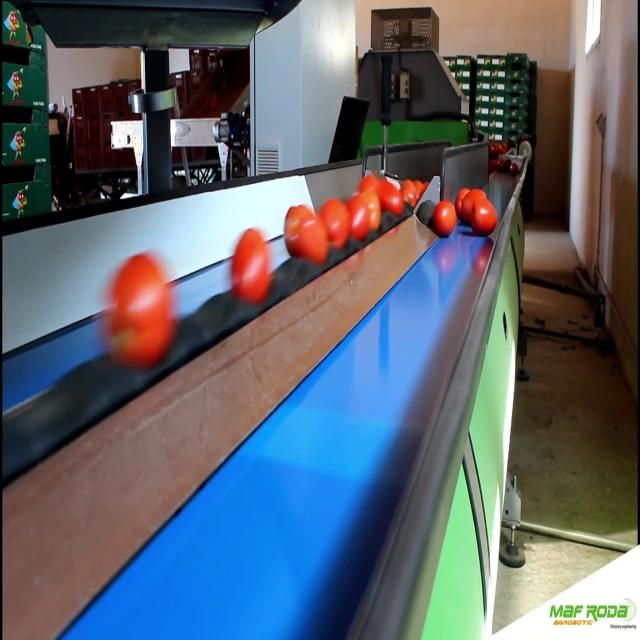Tomato: (112, 248, 169, 354), (234, 226, 272, 294), (300, 218, 330, 260), (284, 207, 310, 254), (322, 202, 347, 244), (347, 198, 370, 238), (375, 182, 401, 216), (434, 201, 457, 236), (474, 200, 496, 236), (359, 197, 382, 224), (398, 179, 416, 205), (510, 163, 519, 177)
